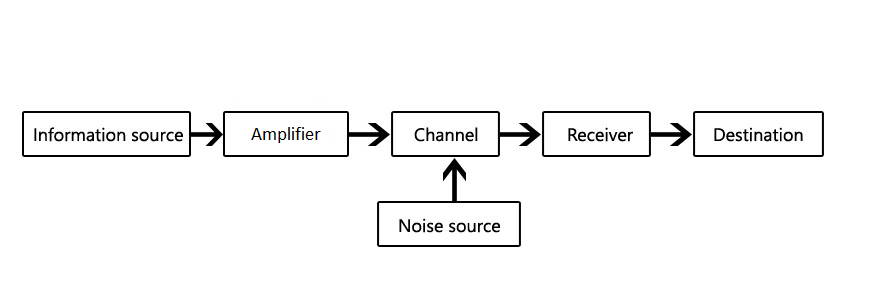arrow: (437, 152, 472, 203), (648, 121, 696, 146), (346, 121, 390, 148), (500, 121, 543, 148), (186, 119, 223, 150)
process: (19, 109, 194, 160), (374, 198, 525, 248), (689, 106, 827, 158), (220, 109, 353, 160), (537, 108, 652, 162), (386, 109, 501, 160)
text: (29, 122, 183, 146), (395, 218, 505, 235), (709, 125, 807, 144), (248, 123, 322, 146), (562, 124, 636, 143), (409, 125, 479, 142)
